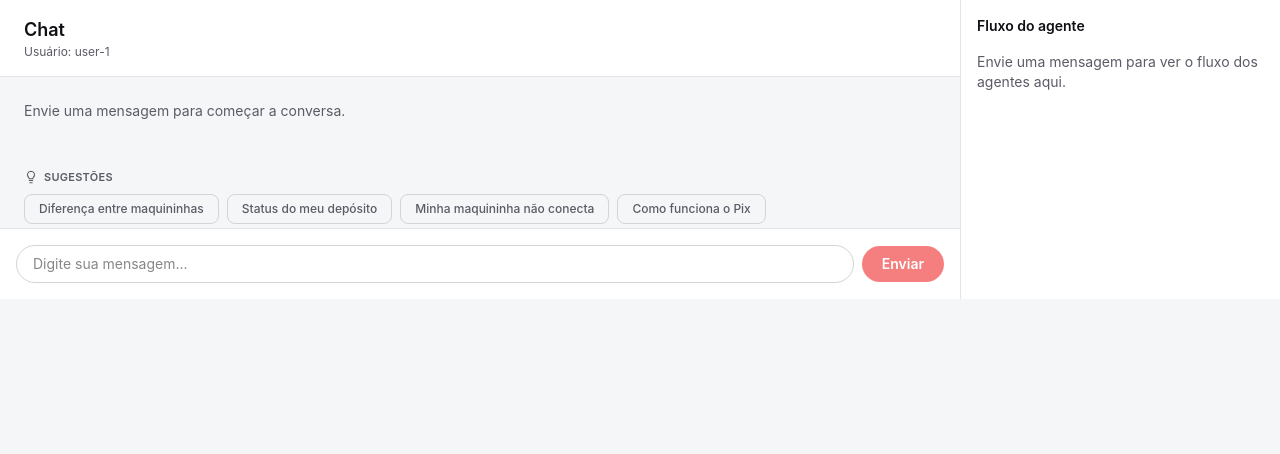
Test: ChatPage › renders differentiated user and AI messages with timestamps
Type "oi, tudo bem?" into the field labelled "mensagem". click: (435, 264)
box: [16,244,854,282]
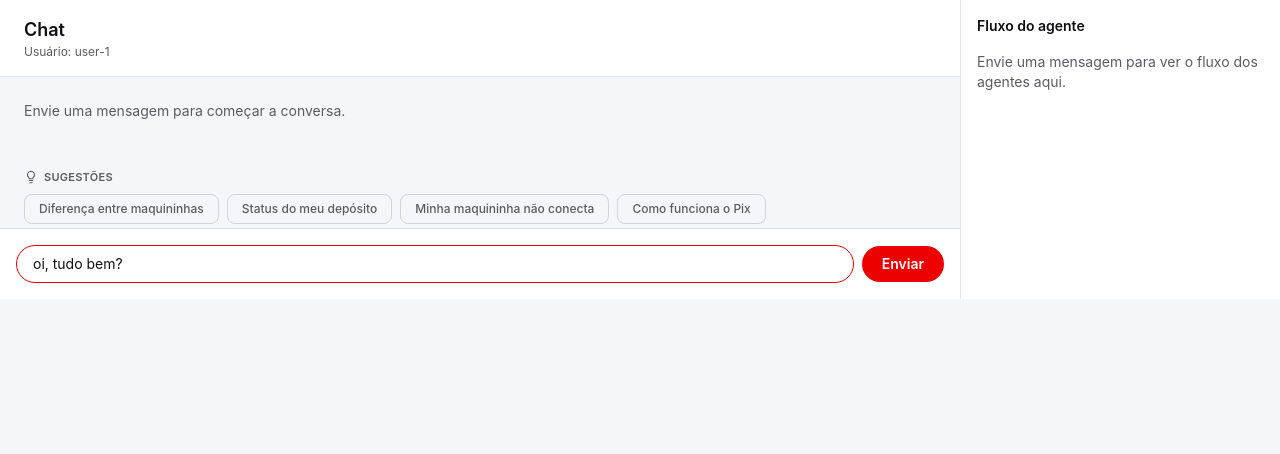
Click the button "Enviar". click: (903, 264)
box: [862,246,944,282]
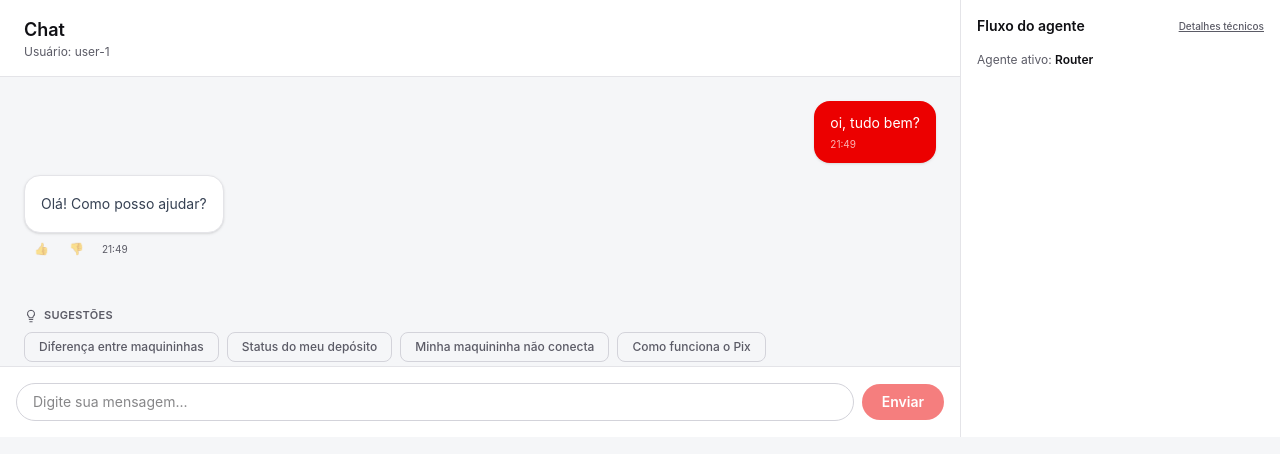
Expected: the number of elements with test id "message-bubble" is 2, [814,101,936,163]; [24,175,224,259]
Expected: the element with test id "message-bubble" shows "oi, tudo bem?", [830,114,920,131]
Expected: the element with test id "message-bubble" shows "Olá! Como posso ajudar?", [41,195,207,212]
